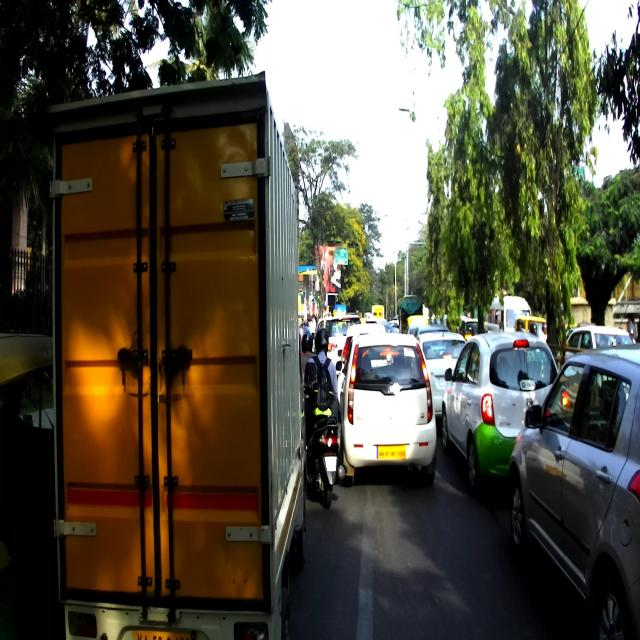Car: (335, 324, 393, 420)
Car_Maruti-Suzuki: (508, 352, 640, 640), (562, 324, 639, 356)
Car_Nissan: (441, 325, 558, 493)
Car_TATA: (334, 330, 436, 487)
Car_Toyota: (325, 313, 361, 372)
Car_Volkswagen: (418, 320, 467, 418)
autorickshaw: (0, 332, 59, 640), (514, 316, 547, 338), (460, 318, 482, 341)
mini-bus: (485, 294, 532, 332)
scooter: (304, 390, 346, 508)
truck: (48, 70, 318, 640)
